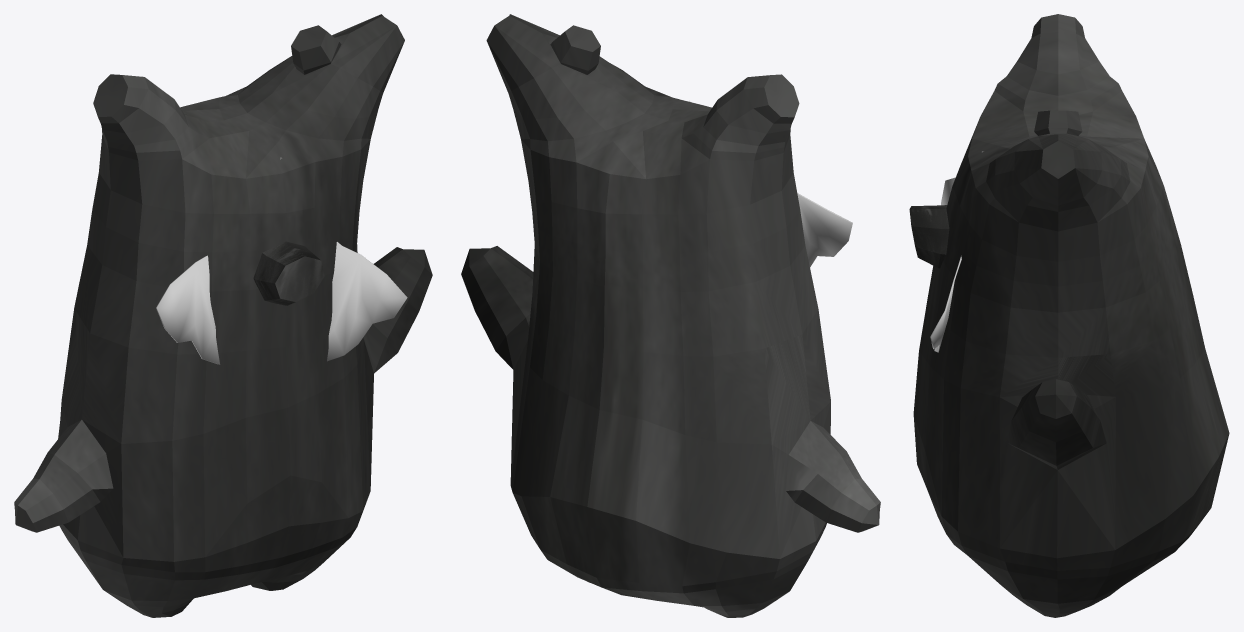
The model's file is frame_0075.obj.
3 renders of one model, left to right at view 1: azimuth 30°, elevation 25°; view 2: azimuth 150°, elevation 25°; view 3: azimuth 270°, elevation 25°, orthographic. The views are drawn at different scales.
Visible parts, largest first — view 1: korok, leaf, nose; view 2: korok, leaf; view 3: korok, nose, leaf.
Boxes of the visible parts, x1,y1,x2,y2 form: korok: (14, 14, 432, 617); leaf: (156, 157, 407, 364); nose: (253, 241, 324, 305); korok: (461, 14, 880, 617); leaf: (688, 100, 852, 267); korok: (913, 14, 1229, 617); nose: (909, 205, 949, 268); leaf: (930, 151, 983, 352).
Size of the model in its own units: 1.7 by 2.16 by 1.18.
